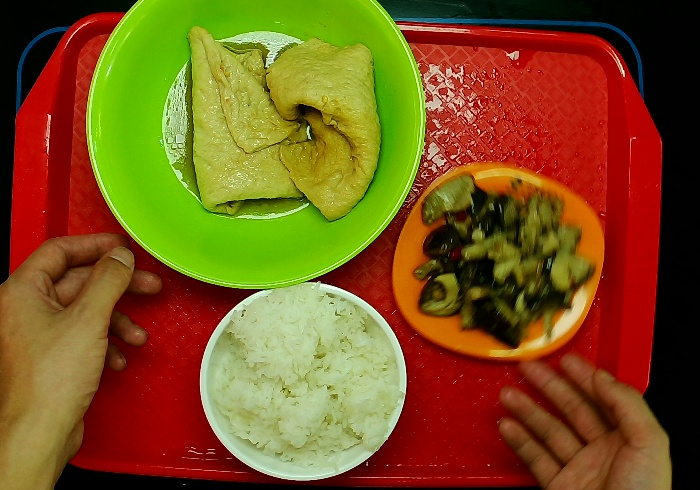YKMZ-Fan_Wan: (197, 279, 410, 482)
YKMZ-Ju_Se_Fang_Die: (389, 160, 607, 364)
YKMZ-Lv_Se_Tang_Wan: (82, 1, 426, 290)
